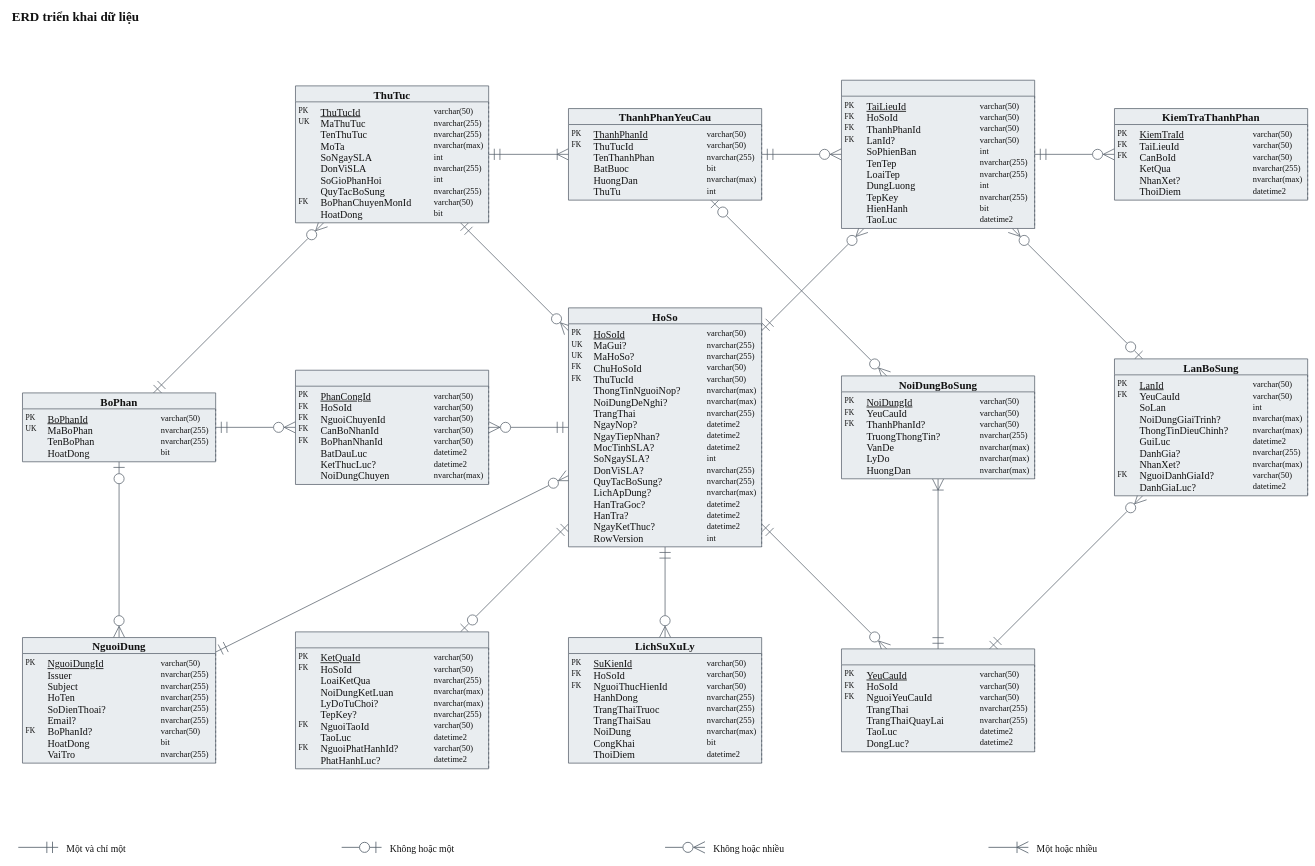
The diagram is 1315 pixels wide and 866 high, and some of its shapes have lost their labels. The box of each missing label's shape, as (x1, y1, x2, y2) in pixels:
KetQuaHoSo: (295, 631, 489, 769)
PhanCongXuLy: (295, 370, 489, 485)
TaiLieuHoSo: (841, 80, 1035, 229)
YeuCauBoSung: (841, 648, 1035, 752)
